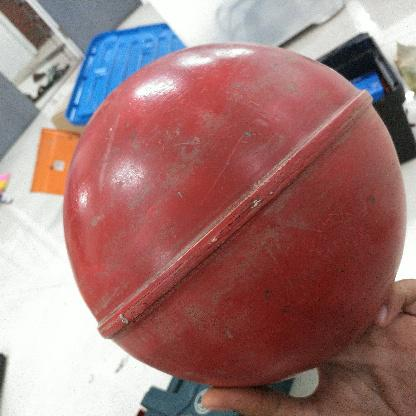red_buoy: (62, 42, 408, 388)
